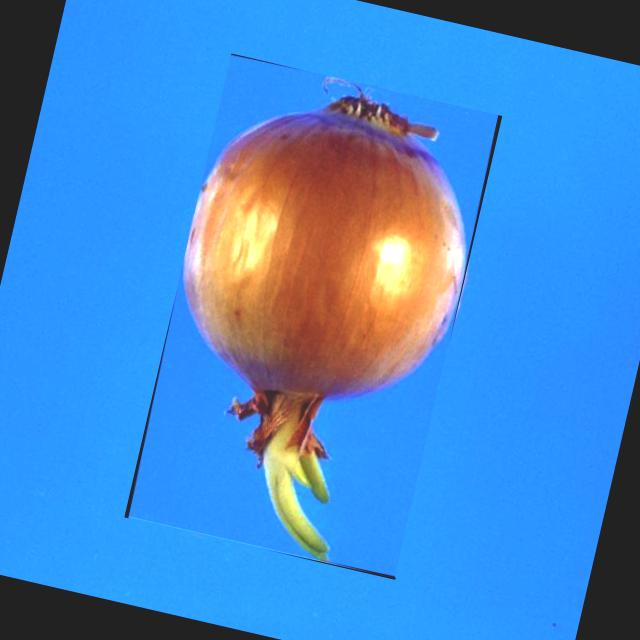sprouting: (184, 79, 466, 561)
